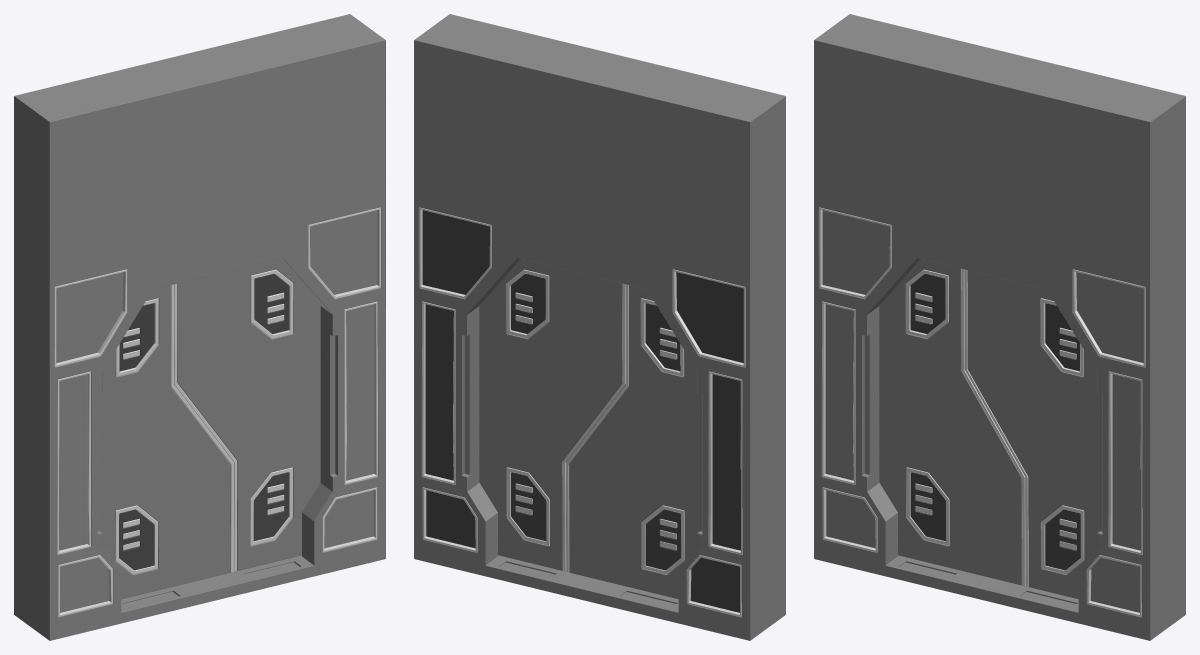
File: Ship_Door_Small_001.fbx
The picture shows the model from 3 angles, left to right: view 1: azimuth 30°, elevation 25°; view 2: azimuth 150°, elevation 25°; view 3: azimuth 330°, elevation 25°; orthographic projection.
Visible parts, largest first — view 1: Ship_Door_Frame_001, Ship_Door_R_001, Ship_Door_L_001; view 2: Ship_Door_Frame_001, Ship_Door_R_001, Ship_Door_L_001; view 3: Ship_Door_Frame_001, Ship_Door_L_001, Ship_Door_R_001.
Part boxes in pixels (bbox=[...]): Ship_Door_Frame_001: bbox=[14, 14, 385, 640]; Ship_Door_R_001: bbox=[174, 259, 320, 571]; Ship_Door_L_001: bbox=[100, 284, 234, 599]; Ship_Door_Frame_001: bbox=[414, 14, 785, 640]; Ship_Door_R_001: bbox=[479, 259, 625, 571]; Ship_Door_L_001: bbox=[566, 284, 699, 599]; Ship_Door_Frame_001: bbox=[814, 14, 1185, 640]; Ship_Door_L_001: bbox=[879, 259, 1025, 586]; Ship_Door_R_001: bbox=[964, 269, 1099, 599].
Bounding box in the file's own units: 305 × 450 × 56.55.
